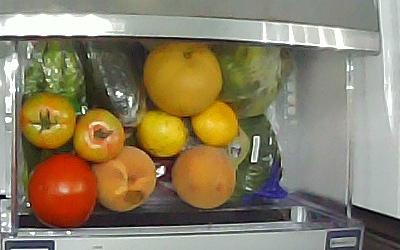peach: (88, 144, 157, 212), (170, 144, 236, 209)
pear: (142, 38, 223, 116)
tangerine: (135, 108, 186, 157), (190, 99, 238, 145)
tomato: (26, 151, 96, 226), (18, 90, 75, 148), (71, 107, 125, 162)
